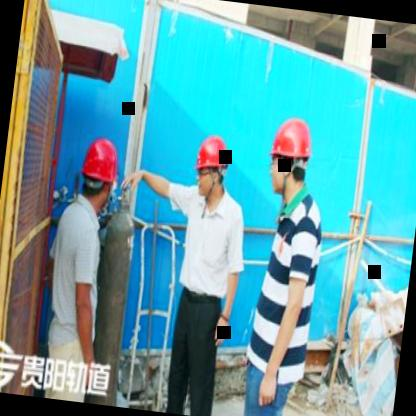helmet: (262, 105, 320, 205), (73, 129, 122, 217), (188, 128, 234, 208)
